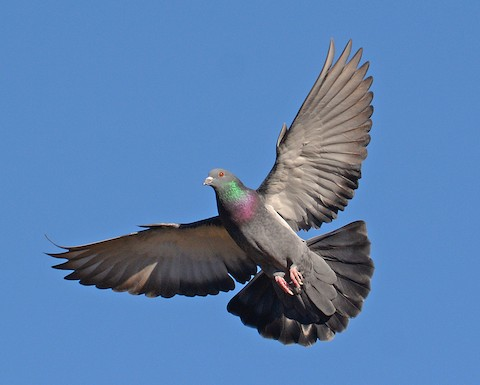pigeon: (44, 37, 380, 349)
